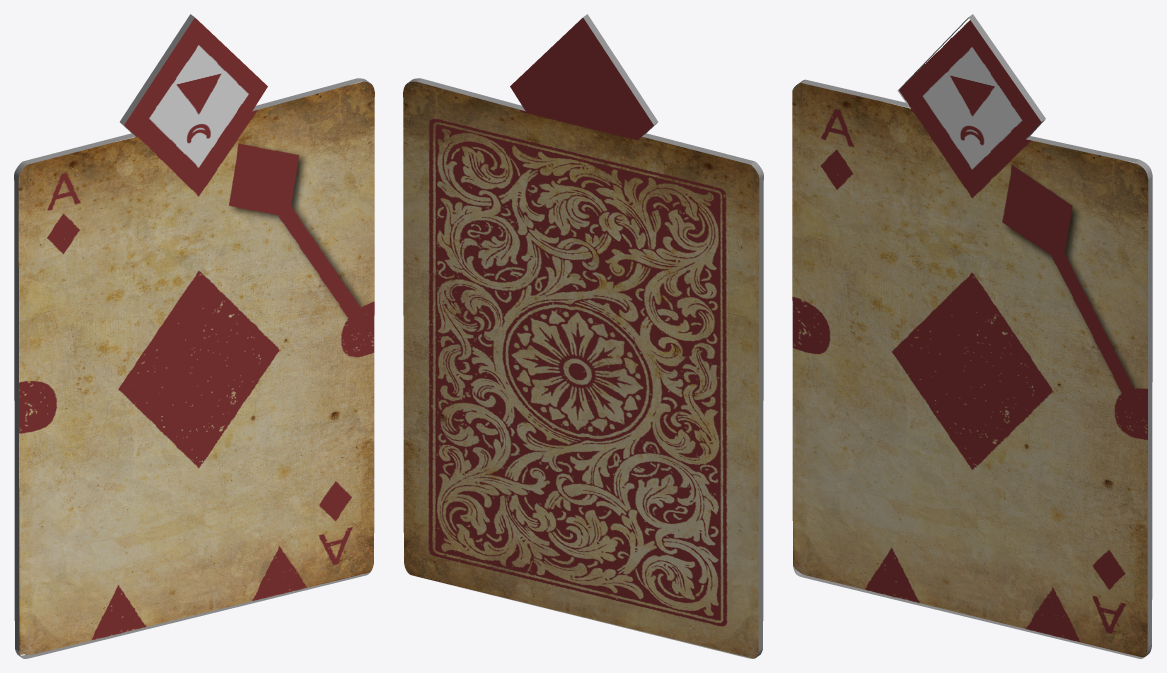
File: card diamond.FBX
3 renders of one model, left to right at view 1: azimuth 30°, elevation 25°; view 2: azimuth 150°, elevation 25°; view 3: azimuth 330°, elevation 25°, orthographic.
Parts seen in each view (by area): view 1: Line001; view 2: Line001; view 3: Line001.
Boxes of the visible parts, x1=… form: Line001: x1=14, y1=14, x2=374, y2=658; Line001: x1=403, y1=14, x2=763, y2=658; Line001: x1=792, y1=14, x2=1152, y2=658.
Bounding box in the file's own units: 45.29 × 72.99 × 1.
3 materials, 2 textured.
